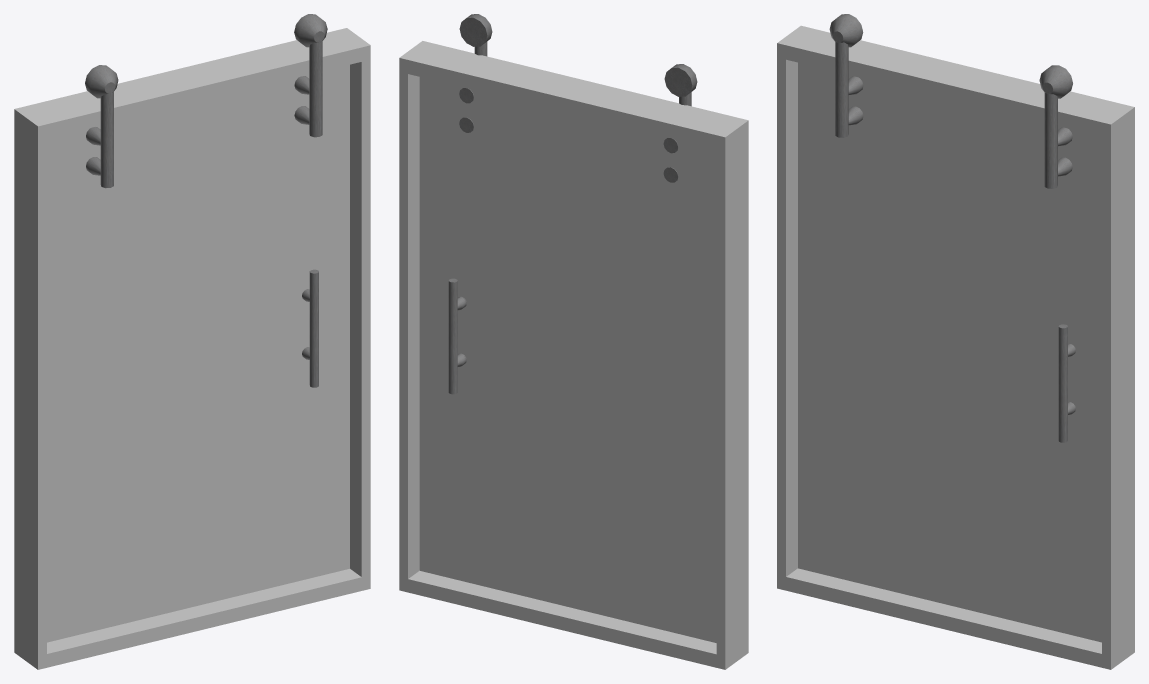
The model's file is SM_Wall_Window_Door_1.FBX.
3 renders of one model, left to right at view 1: azimuth 30°, elevation 25°; view 2: azimuth 150°, elevation 25°; view 3: azimuth 330°, elevation 25°, orthographic. The views are drawn at different scales.
Visible parts, largest first — view 1: SM_Wall_Window_Door_1; view 2: SM_Wall_Window_Door_1; view 3: SM_Wall_Window_Door_1.
Boxes of the visible parts, x1,y1,x2,y2 form: SM_Wall_Window_Door_1: (14, 14, 370, 669); SM_Wall_Window_Door_1: (399, 14, 748, 669); SM_Wall_Window_Door_1: (777, 14, 1134, 669).
Size of the model in its own units: 1.59 by 2.67 by 0.2442.
